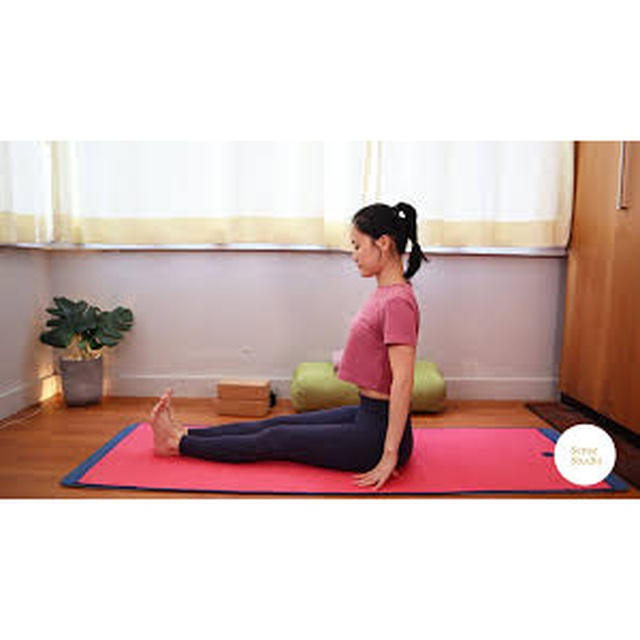Staff_Pose: (148, 200, 430, 491)
